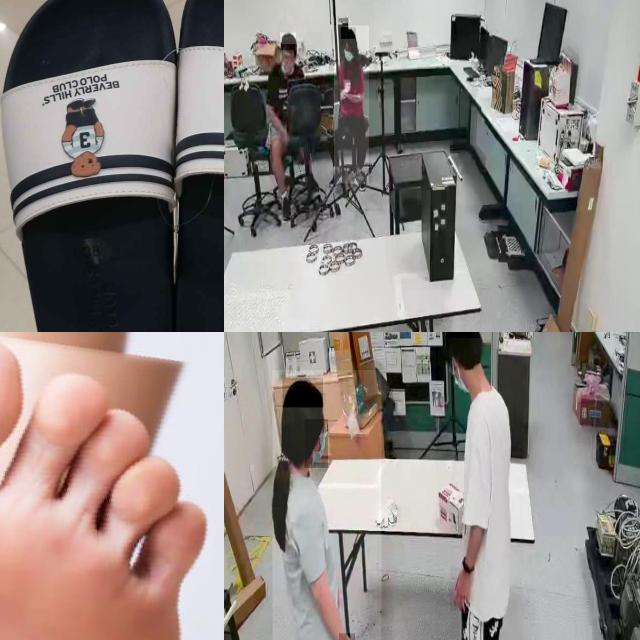Barefoots: (0, 332, 224, 640)
Sandals: (0, 0, 224, 332)
face_mask: (304, 419, 328, 468)
face_nomask: (280, 51, 294, 74)
hand_noglove: (450, 567, 470, 612), (343, 80, 351, 92), (342, 90, 349, 98)
head_nohelmet: (282, 378, 324, 408), (443, 332, 481, 339), (341, 27, 357, 40), (280, 33, 296, 45)
person: (272, 370, 381, 640), (435, 332, 524, 640), (262, 32, 324, 214), (334, 26, 370, 184)
